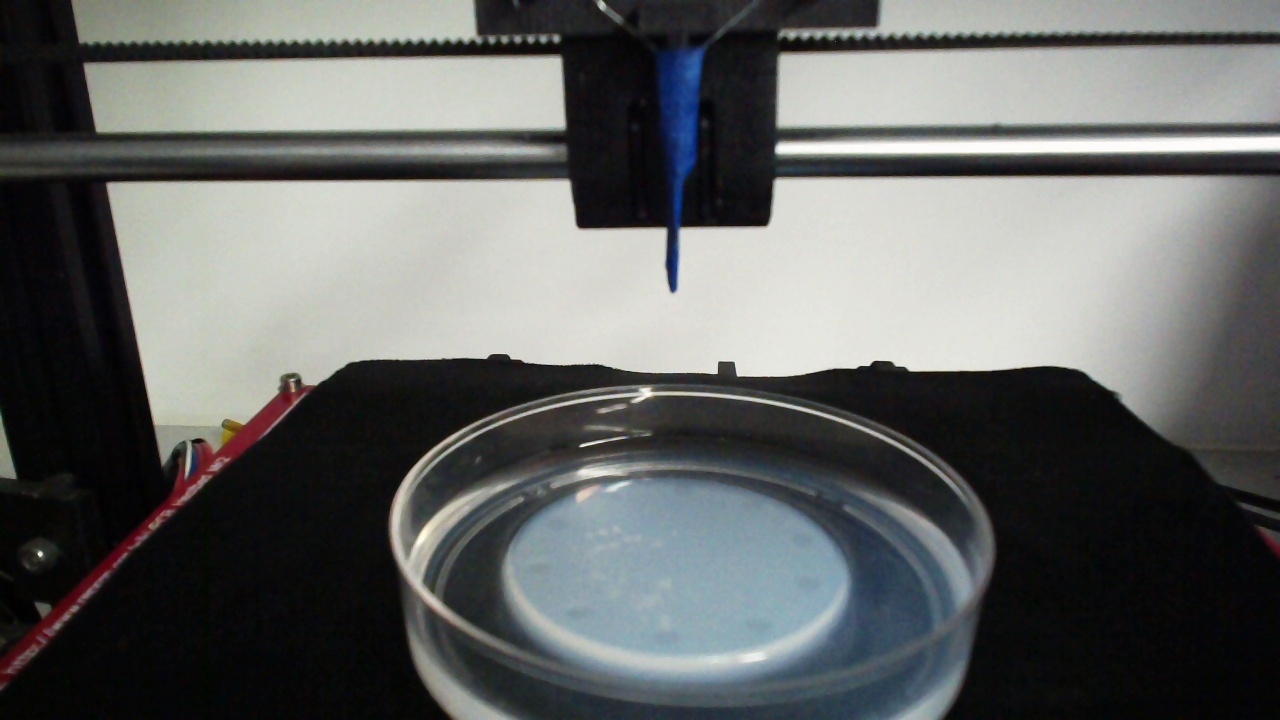groove: (745, 616, 775, 637), (669, 481, 697, 500), (738, 496, 765, 514), (520, 562, 552, 577), (652, 630, 678, 648), (542, 517, 569, 532), (565, 606, 593, 620), (792, 532, 815, 549), (797, 577, 823, 592)
needle: (660, 50, 702, 290)
